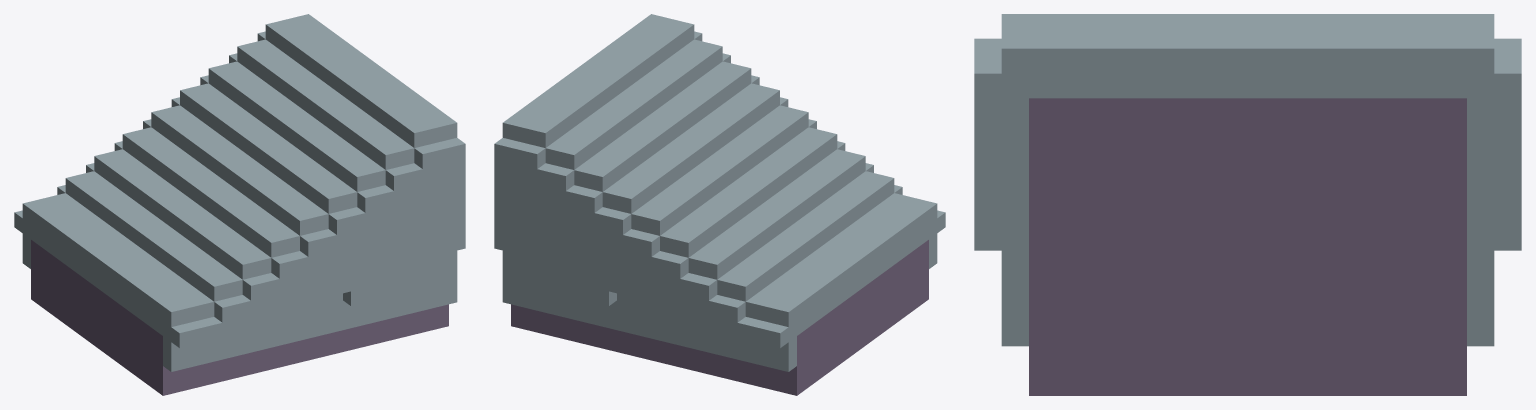
File: Floors-18.obj
The picture shows the model from 3 angles, left to right: view 1: azimuth 30°, elevation 25°; view 2: azimuth 150°, elevation 25°; view 3: azimuth 270°, elevation 25°; orthographic projection. The views are drawn at different scales.
Bounding box in the file's own units: 2 × 1.4 × 2.
1 material, 1 textured.
